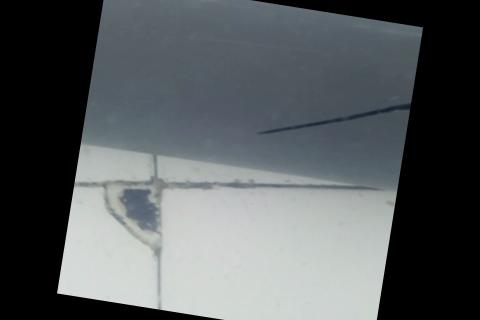keretakan: (255, 79, 411, 157)
